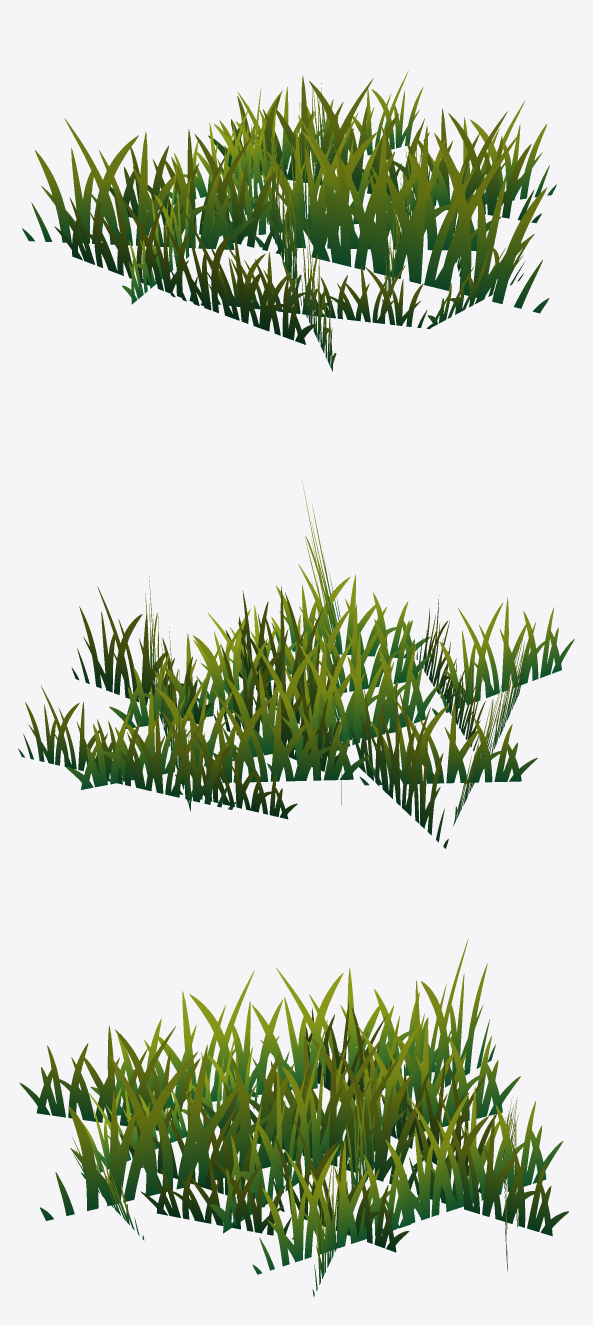
File: high_grass_09.gltf
3 views of the same model, one above another, from view 1: azimuth 30°, elevation 25°; view 2: azimuth 150°, elevation 25°; view 3: azimuth 270°, elevation 25° (orthographic). The views are drawn at different scales.
Parts seen in each view (by area): view 1: default; view 2: default; view 3: default.
Part boxes in pixels (<box>): default: <box>22,71,556,371</box>; default: <box>18,478,574,848</box>; default: <box>19,938,568,1296</box>.
Size of the model in its own units: 1.91 by 0.7728 by 1.84.
Materials: 1 (1 with a texture image).
